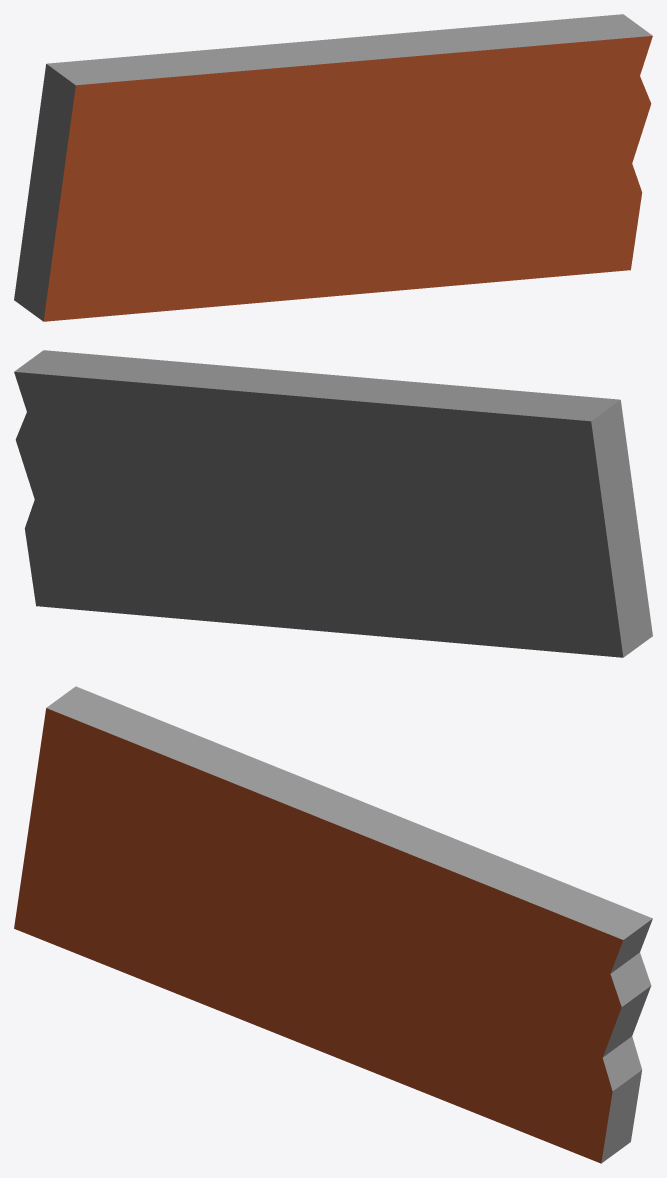
Rendered from construction_1229_assumed_A_Casa_h6m.obj.
3 renders of one model, top to bottom at view 1: azimuth 30°, elevation 25°; view 2: azimuth 150°, elevation 25°; view 3: azimuth 330°, elevation 25°, orthographic.
Visible parts, largest first — view 1: construction_1229_assumed_A_Casa; view 2: construction_1229_assumed_A_Casa; view 3: construction_1229_assumed_A_Casa.
Boxes of the visible parts, x1=… form: construction_1229_assumed_A_Casa: x1=14, y1=14, x2=652, y2=321; construction_1229_assumed_A_Casa: x1=14, y1=350, x2=652, y2=657; construction_1229_assumed_A_Casa: x1=14, y1=686, x2=652, y2=1163.
Size of the model in its own units: 71.33 by 35.82 by 6.
